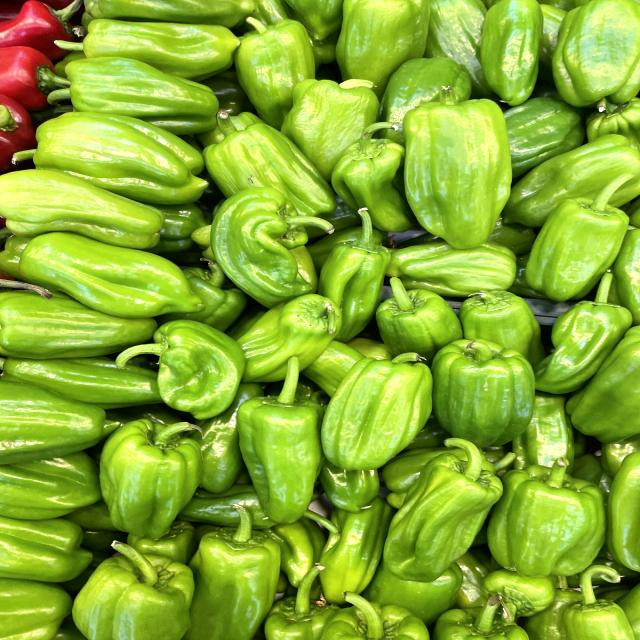bell pepper: (211, 351, 337, 524), (386, 433, 522, 579), (403, 82, 517, 252), (480, 455, 615, 580), (314, 344, 442, 475), (27, 49, 226, 133), (431, 332, 541, 454)
